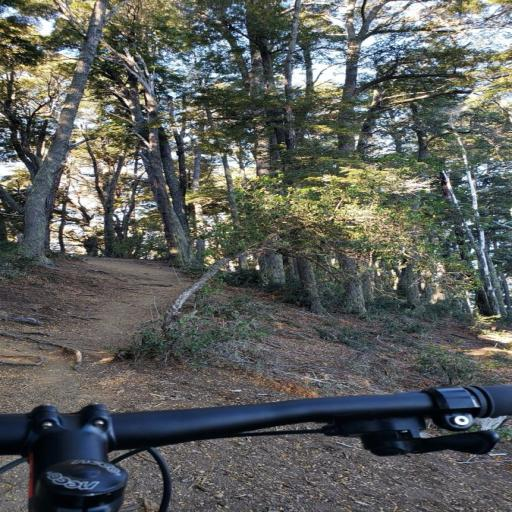bag: (0, 386, 511, 511)
